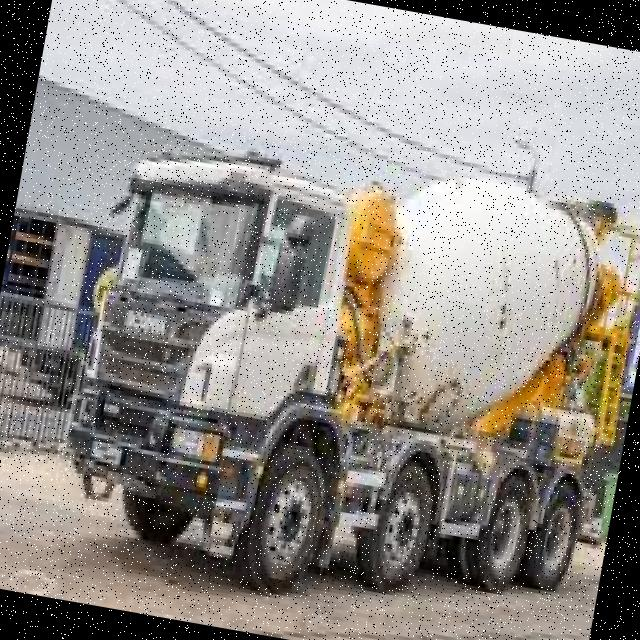Mixer Truck: (43, 109, 640, 640)
